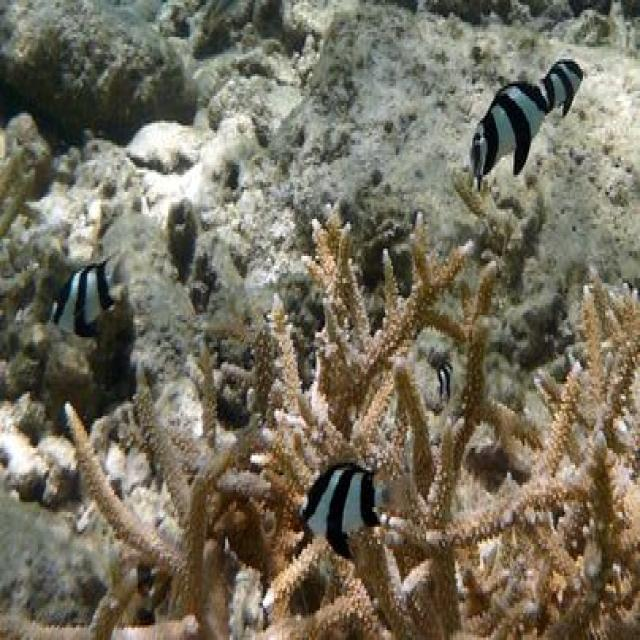ThreeStripedDamselfish: (467, 74, 550, 189), (296, 460, 391, 558), (52, 256, 120, 341)
